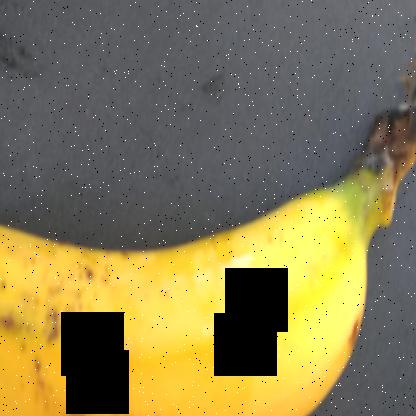ripe: (0, 166, 394, 415)
